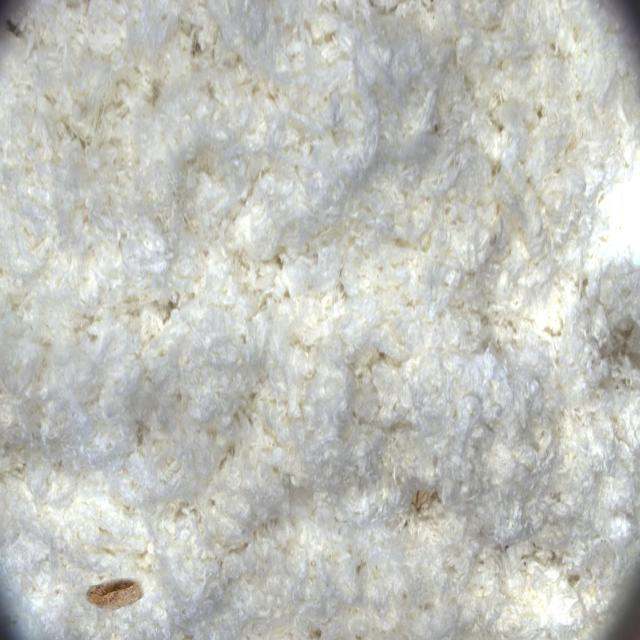dust: (61, 549, 160, 640)
